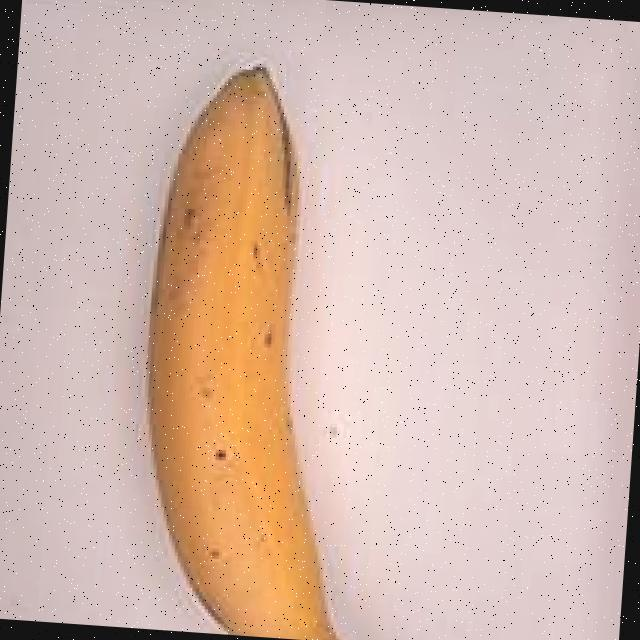Ripe: (84, 47, 515, 640)
